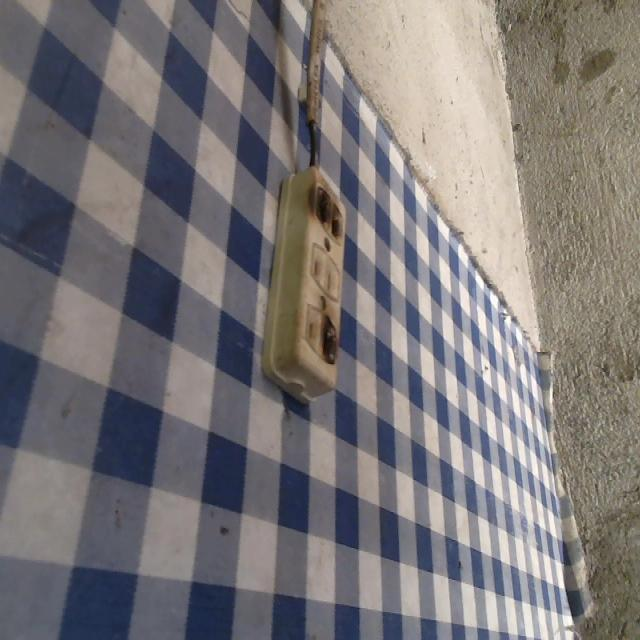-: (306, 177, 344, 243), (319, 312, 338, 369)
